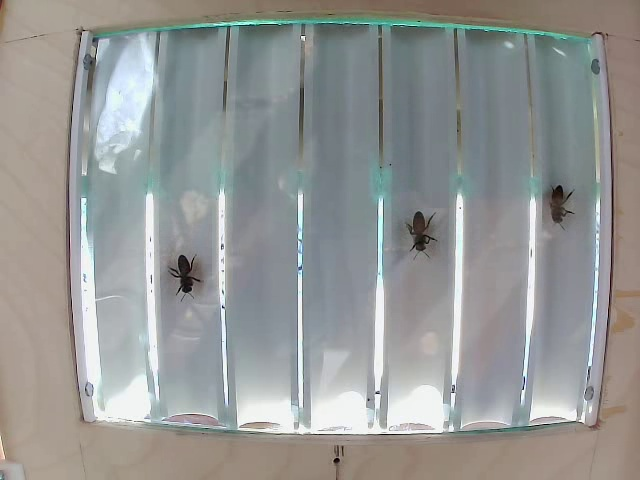bee: (416, 201, 441, 269), (164, 253, 199, 295), (555, 185, 574, 232)
